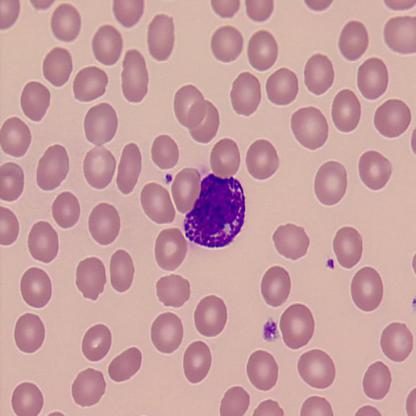Basophil: (181, 170, 247, 251)
